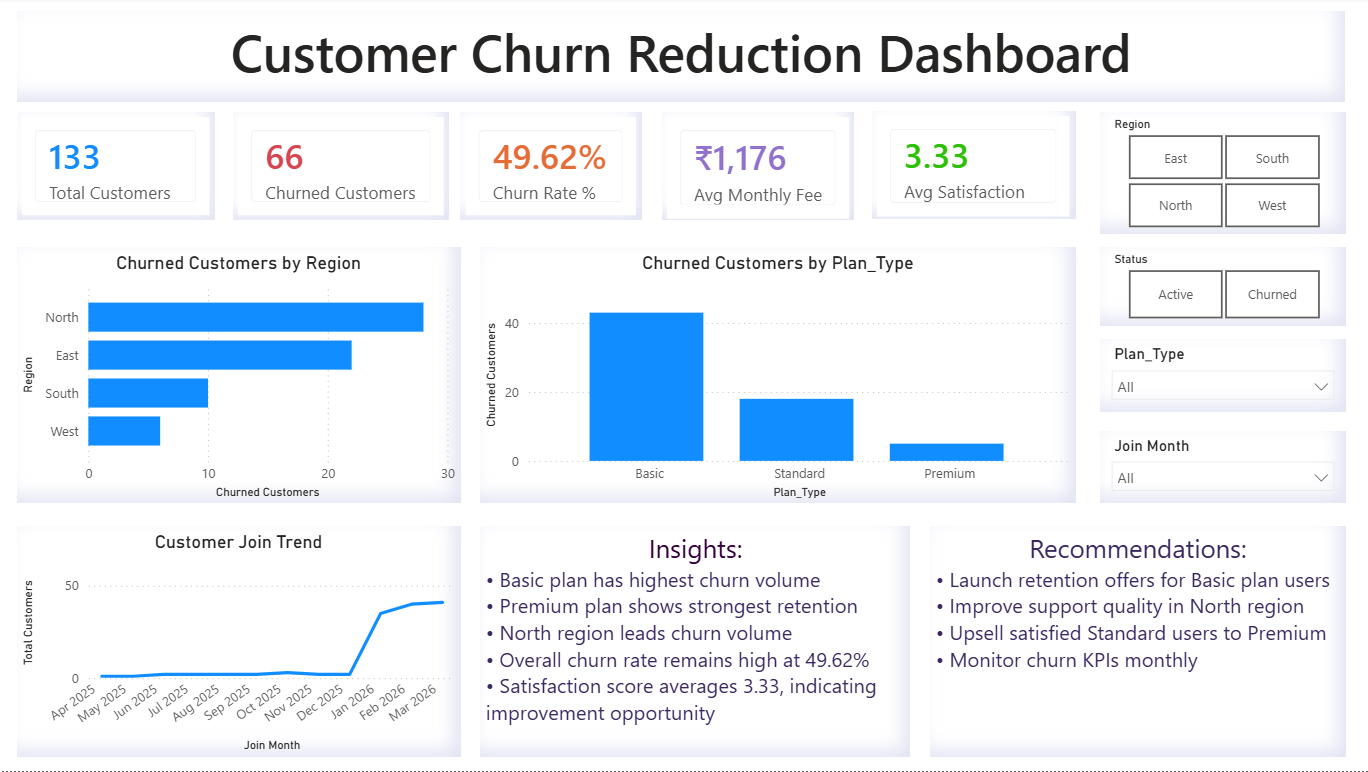

The dashboard page shown, as its layout file describes it:
{"tool":"powerbi","page":{"name":"Page 1","canvas":[1280,720],"ordinal":0},"visuals":[{"type":"barChart","fields":{"Category":["Table1.Region"],"Y":["Table1.Churned Customers"]},"box":[22.1,232.6,412.8,238.4],"z":0},{"type":"columnChart","fields":{"Category":["Table1.Plan_Type"],"Y":["Table1.Churned Customers"]},"box":[453.5,232.6,553.5,238.4],"z":1000},{"type":"lineChart","title":"Customer Join Trend","fields":{"Category":["Table1.Join Month"],"Y":["Table1.Total Customers"]},"box":[22.1,491.9,412.8,215.1],"z":2000},{"type":"slicer","fields":{"Values":["Table1.Region"]},"box":[1030.2,107,227.9,114],"z":3000},{"type":"slicer","fields":{"Values":["Table1.Plan_Type"]},"box":[1030.2,318.6,227.9,67.4],"z":4000},{"type":"slicer","fields":{"Values":["Table1.Status"]},"box":[1030.2,232.6,227.9,73.3],"z":5000},{"type":"textbox","box":[22.1,12.8,1236.1,84.9],"z":6000},{"type":"cardVisual","fields":{"Data":["Table1.Total Customers"]},"box":[22.1,107,184.9,101.2],"z":7000},{"type":"cardVisual","fields":{"Data":["Table1.Churned Customers"]},"box":[223.3,107,201.2,101.2],"z":8000},{"type":"cardVisual","fields":{"Data":["Table1.Churn Rate %"]},"box":[434.9,107,168.6,101.2],"z":9000},{"type":"cardVisual","fields":{"Data":["Table1.Avg Monthly Fee Text"]},"box":[622.1,107,179.1,101.2],"z":10000},{"type":"cardVisual","fields":{"Data":["Table1.Avg Satisfaction"]},"box":[817.4,106,189.5,101],"z":11000},{"type":"slicer","fields":{"Values":["Table1.Join Month"]},"box":[1030.2,403.5,227.9,67.4],"z":12000},{"type":"textbox","box":[453.5,491.9,400,215.1],"z":13000},{"type":"textbox","box":[872.1,491.9,386,215.1],"z":14000}]}

Visuals, with their boxes in screenshot pixels (x1, y1, x2, y2), scaled from the page's 1280x720 canvas onto the 1368x772 screenshot:
barChart - Table1.Region x Table1.Churned Customers: detection(24, 249, 465, 505)
columnChart - Table1.Plan_Type x Table1.Churned Customers: detection(485, 249, 1076, 505)
"Customer Join Trend" lineChart: detection(24, 527, 465, 758)
slicer - Table1.Region: detection(1101, 115, 1345, 237)
slicer - Table1.Plan_Type: detection(1101, 342, 1345, 414)
slicer - Table1.Status: detection(1101, 249, 1345, 328)
textbox: detection(24, 14, 1345, 105)
cardVisual - Table1.Total Customers: detection(24, 115, 221, 223)
cardVisual - Table1.Churned Customers: detection(239, 115, 454, 223)
cardVisual - Table1.Churn Rate %: detection(465, 115, 645, 223)
cardVisual - Table1.Avg Monthly Fee Text: detection(665, 115, 856, 223)
cardVisual - Table1.Avg Satisfaction: detection(874, 114, 1076, 222)
slicer - Table1.Join Month: detection(1101, 433, 1345, 505)
textbox: detection(485, 527, 912, 758)
textbox: detection(932, 527, 1345, 758)
